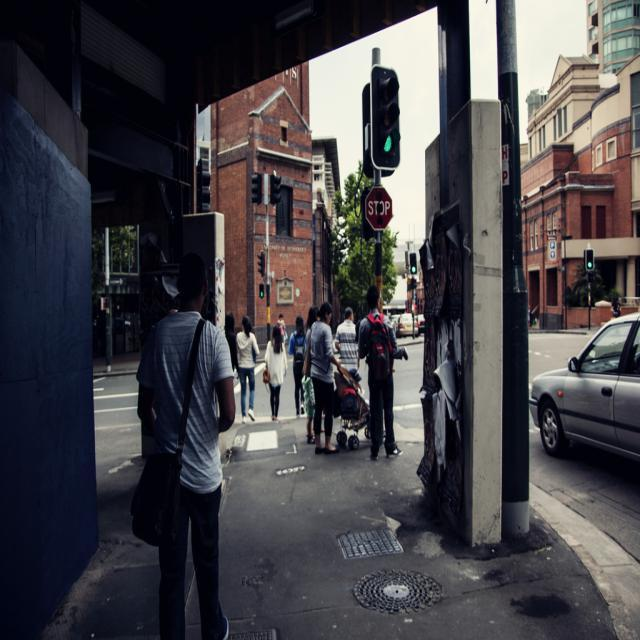obstructed_road_sign: (365, 187, 392, 227)
off traffic light: (250, 174, 262, 206), (270, 175, 282, 204), (256, 252, 264, 277)
traffic light: (373, 69, 401, 167), (409, 253, 418, 274), (586, 249, 594, 270)
